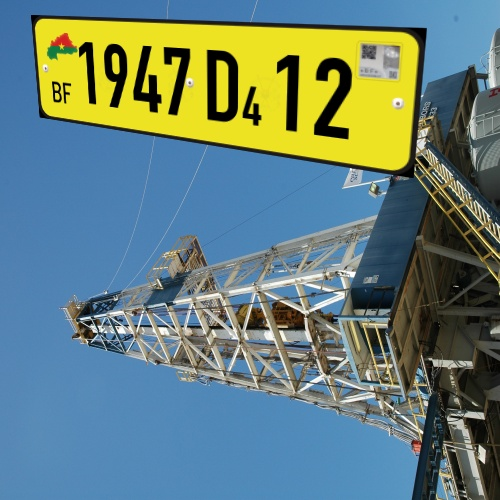plate: (22, 8, 430, 197)
